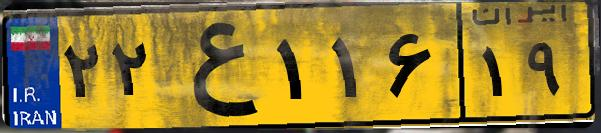1: (270, 28, 330, 110), (330, 28, 385, 110), (475, 38, 525, 113)
2: (57, 26, 110, 100), (110, 28, 158, 98)
6: (385, 28, 445, 110)
9: (525, 38, 570, 115)
ع: (158, 12, 270, 120)
